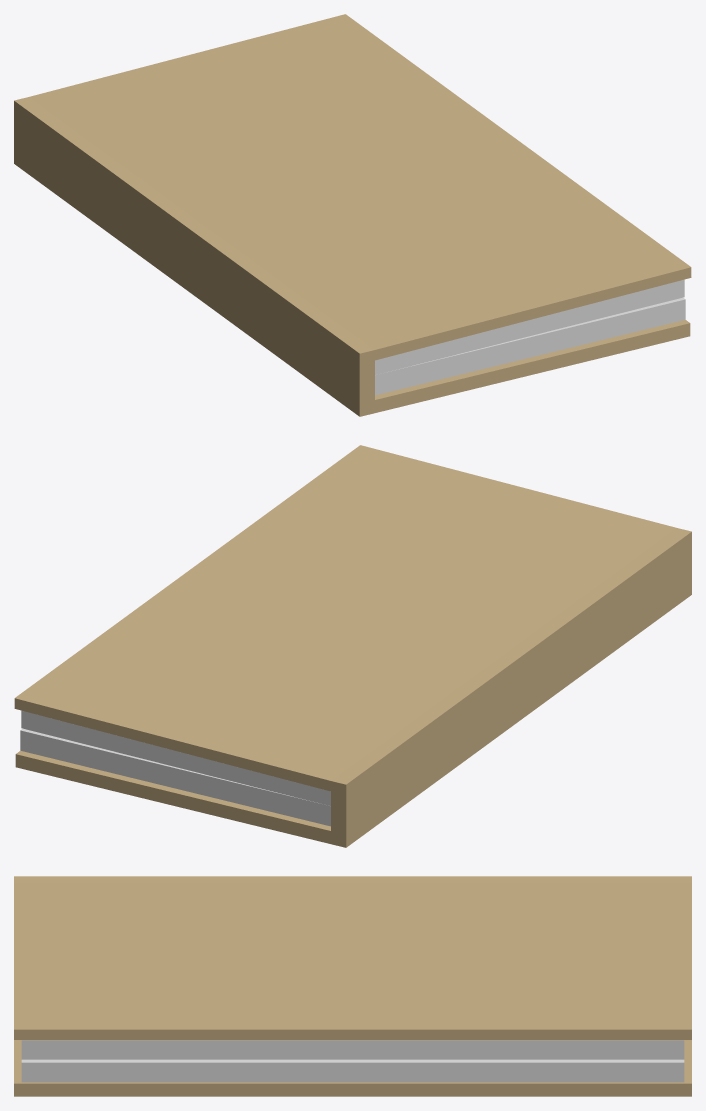
The model's file is book.fbx.
3 renders of one model, top to bottom at view 1: azimuth 30°, elevation 25°; view 2: azimuth 150°, elevation 25°; view 3: azimuth 270°, elevation 25°, orthographic. The views are drawn at different scales.
Parts seen in each view (by area): view 1: 立方体.008, 立方体.007, 立方体.005, 立方体, 立方体.009, 立方体.006; view 2: 立方体.008, 立方体.007, 立方体.005, 立方体, 立方体.009, 立方体.006; view 3: 立方体.008, 立方体, 立方体.006, 立方体.009, 立方体.007.
Boxes of the visible parts, x1=… form: 立方体.008: x1=29, y1=14, x2=691, y2=360; 立方体.007: x1=14, y1=97, x2=691, y2=383; 立方体.005: x1=14, y1=131, x2=374, y2=416; 立方体: x1=375, y1=297, x2=685, y2=395; 立方体.009: x1=374, y1=320, x2=690, y2=412; 立方体.006: x1=375, y1=279, x2=684, y2=374; 立方体.008: x1=14, y1=445, x2=676, y2=791; 立方体.007: x1=14, y1=528, x2=691, y2=814; 立方体.005: x1=331, y1=562, x2=691, y2=847; 立方体: x1=20, y1=728, x2=330, y2=826; 立方体.009: x1=15, y1=751, x2=331, y2=843; 立方体.006: x1=21, y1=710, x2=330, y2=805; 立方体.008: x1=14, y1=883, x2=691, y2=1039; 立方体: x1=21, y1=1059, x2=684, y2=1082; 立方体.006: x1=21, y1=1040, x2=684, y2=1059; 立方体.009: x1=14, y1=1040, x2=691, y2=1096; 立方体.007: x1=14, y1=876, x2=691, y2=1040.
Size of the model in its own units: 178 by 35.33 by 322.
